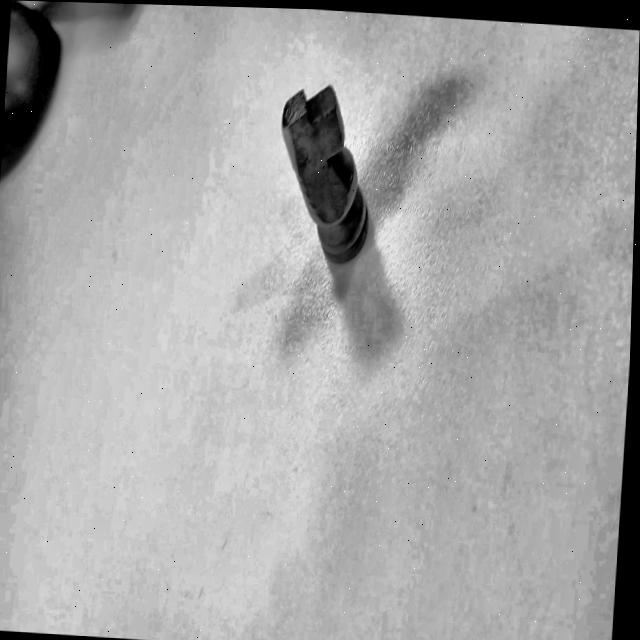black-knight: (265, 78, 393, 280)
